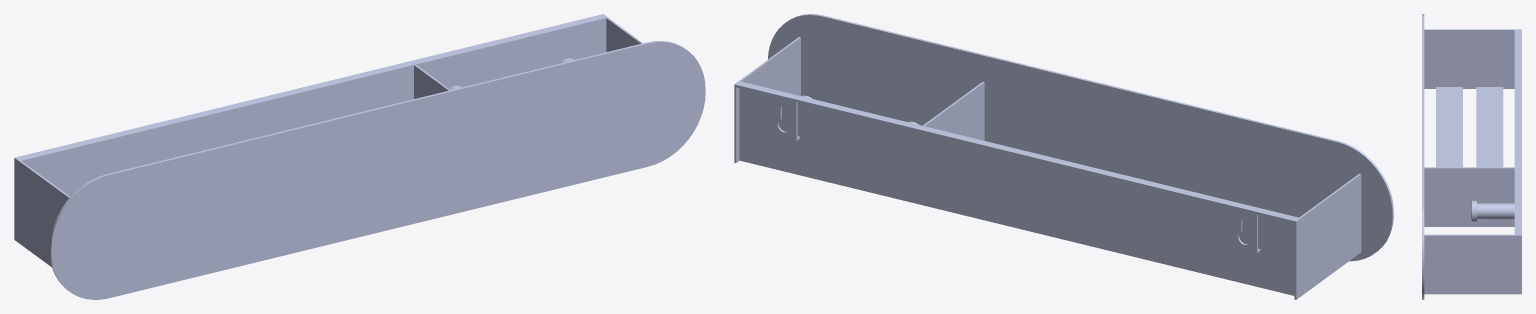
The model's file is round-patron.b1b72538f7.glb.
3 views of the same model, side by side, from view 1: azimuth 30°, elevation 25°; view 2: azimuth 150°, elevation 25°; view 3: azimuth 270°, elevation 25° (orthographic). The views are drawn at different scales.
Parts seen in each view (by area): view 1: NAUO1; view 2: NAUO1; view 3: NAUO1.
Boxes of the visible parts, x1,y1,x2,y2 form: NAUO1: [14, 14, 705, 299]; NAUO1: [734, 14, 1393, 299]; NAUO1: [1422, 14, 1521, 299].
Bounding box in the file's own units: 0.5 × 0.09 × 0.092.
